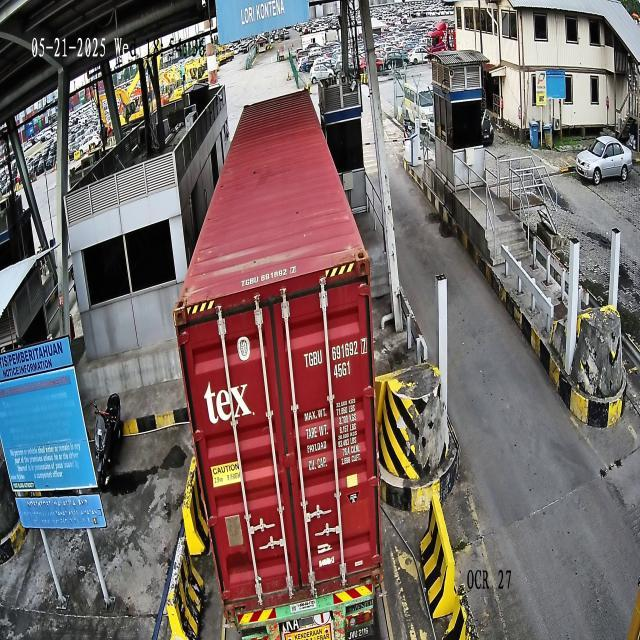ISO: (333, 360, 351, 380)
container_number: (302, 336, 367, 370)
